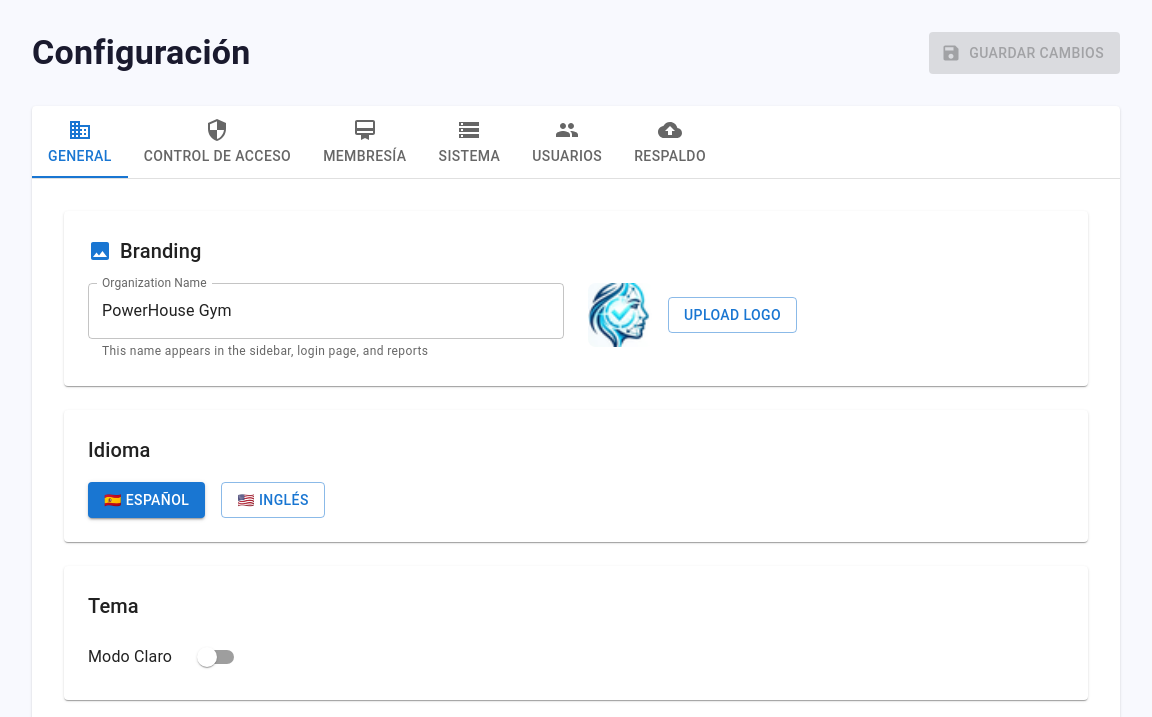
Test: Settings — Backup tab (remote backup config) › admin: a rejected test surfaces the backend detail instead of failing silently
Click the tab "Respaldo": {"x": 670, "y": 142} [618, 106, 722, 178]
(page scrolled)
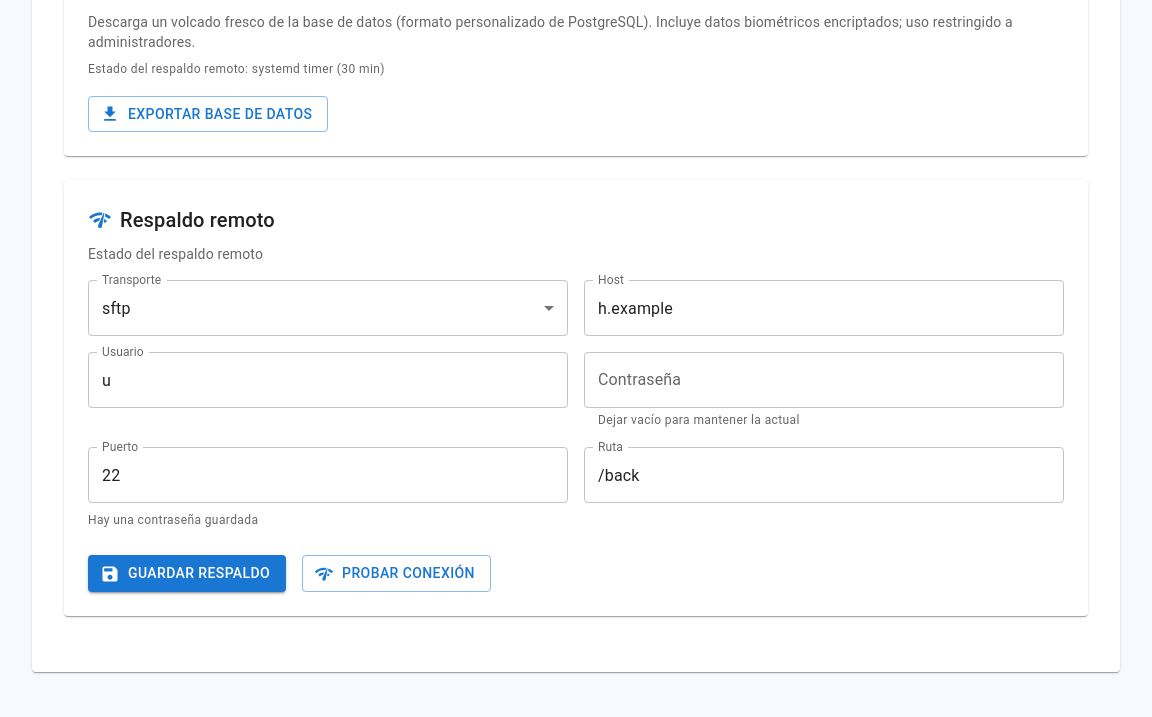
Click the button "Probar conexión": {"x": 396, "y": 574} [302, 555, 491, 592]
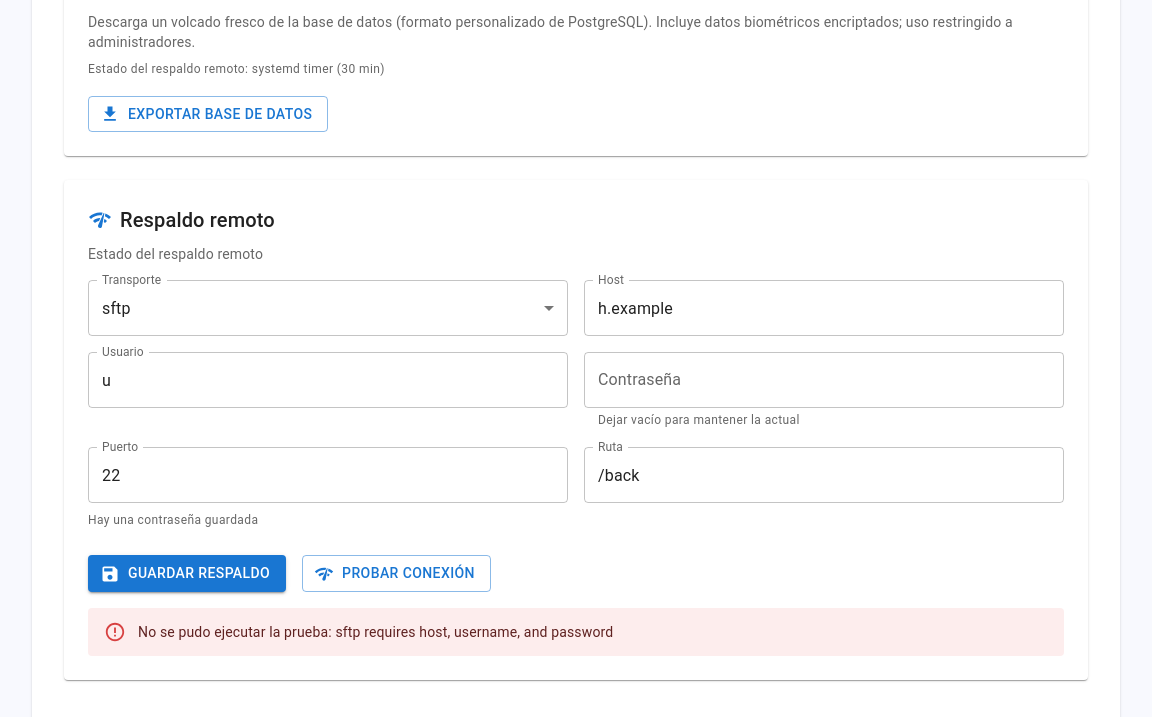
Expected: the text "sftp requires host, username, and password" is shown, [335, 624, 613, 640]
